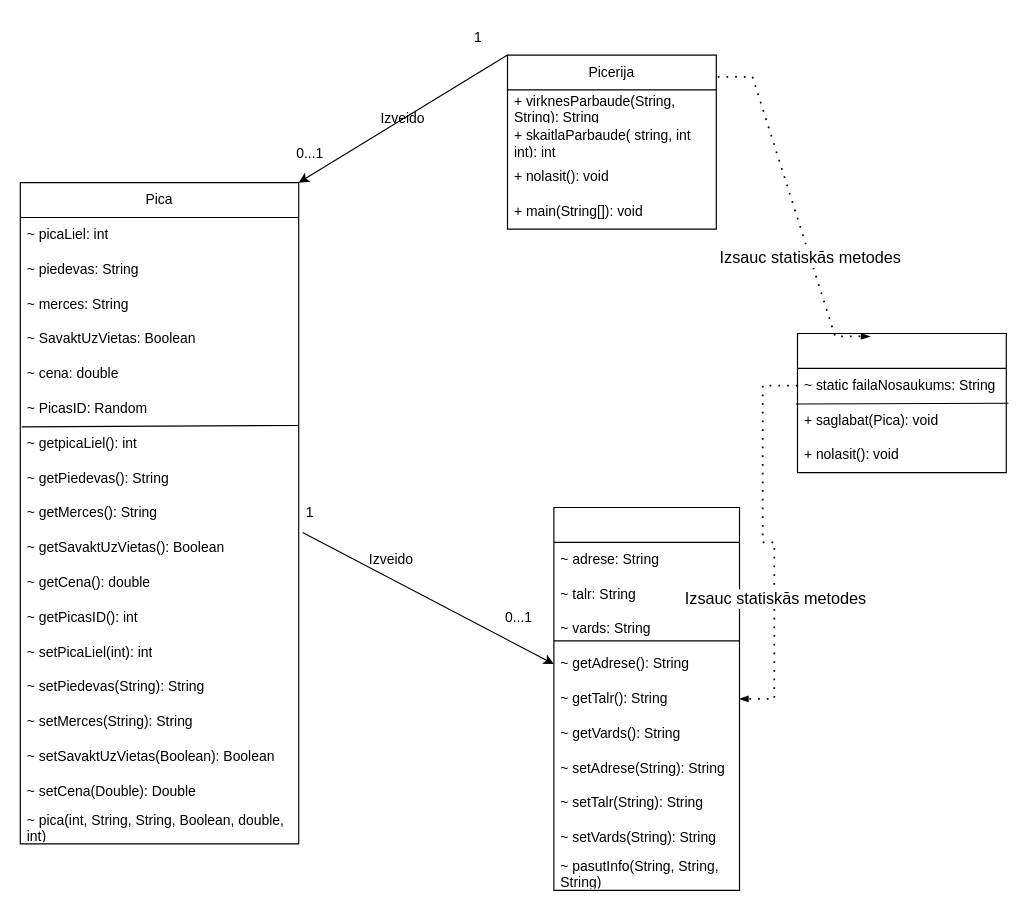
Image size: 1030x911. Some labels were removed from this diagram. The box of each missing label's shape, as (x1, y1, x2, y2) in pixels:
DarbibasArFailu: (796, 332, 1006, 473)
PasutitajaInfo: (553, 506, 740, 890)
